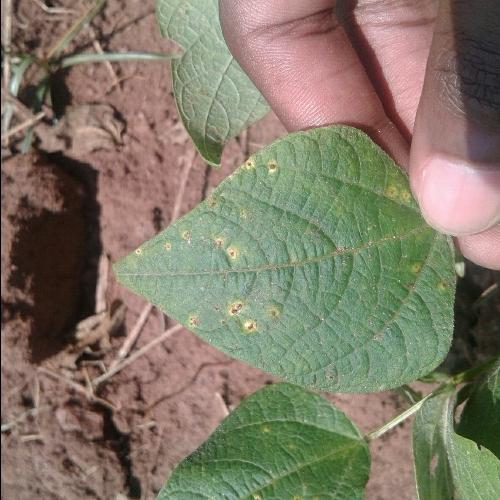hawar: (205, 134, 292, 360)
